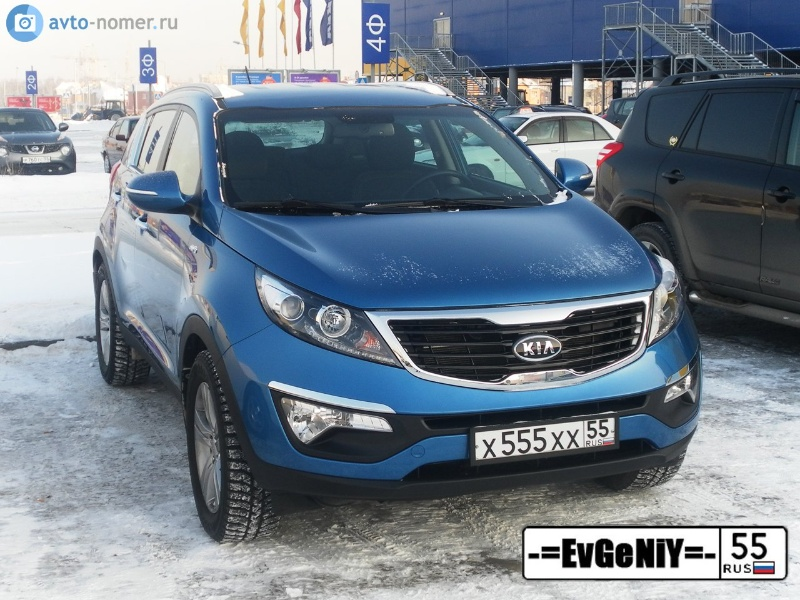car: (92, 84, 704, 544), (594, 76, 800, 322), (414, 112, 620, 188), (1, 108, 76, 173), (101, 116, 140, 170)
plate: (476, 418, 613, 458)
